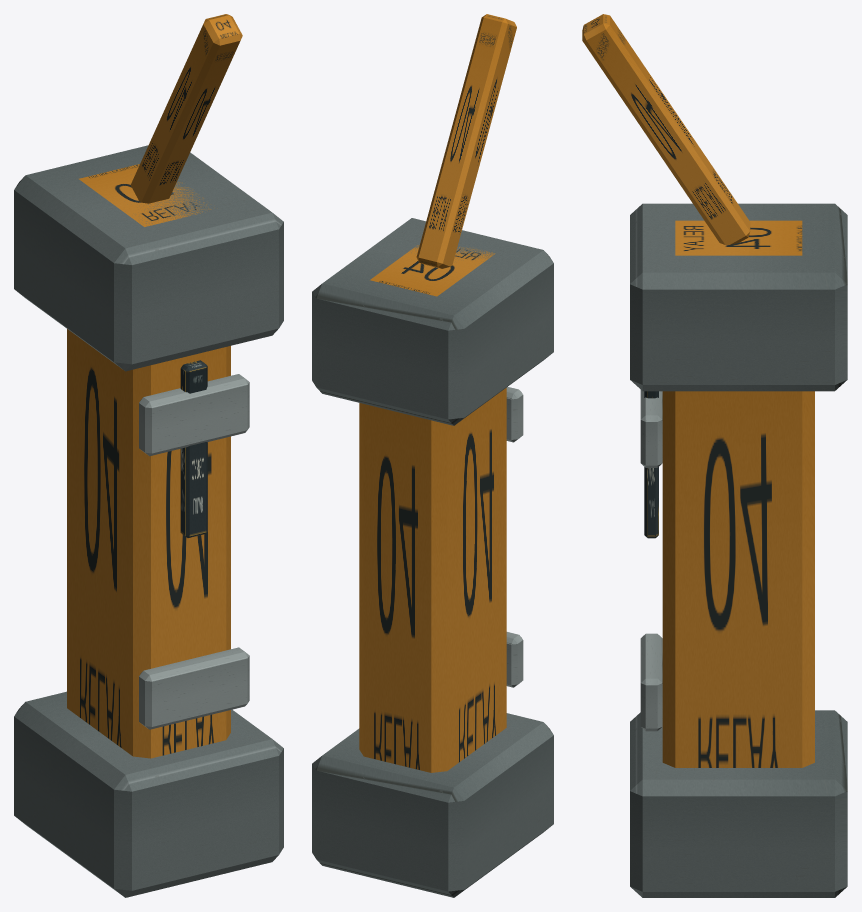
File: column_broken_LOD1.obj
3 renders of one model, left to right at view 1: azimuth 30°, elevation 25°; view 2: azimuth 150°, elevation 25°; view 3: azimuth 270°, elevation 25°, orthographic. The views are drawn at different scales.
Visible parts, largest first — view 1: L02_column_broken_LOD1; view 2: L02_column_broken_LOD1; view 3: L02_column_broken_LOD1.
Part boxes in pixels (x1=…): L02_column_broken_LOD1: x1=14, y1=14, x2=283, y2=897; L02_column_broken_LOD1: x1=312, y1=14, x2=553, y2=897; L02_column_broken_LOD1: x1=582, y1=14, x2=847, y2=897.
Bounding box in the file's own units: 0.52 × 2.57 × 0.7312.
Materials: 1 (1 with a texture image).
